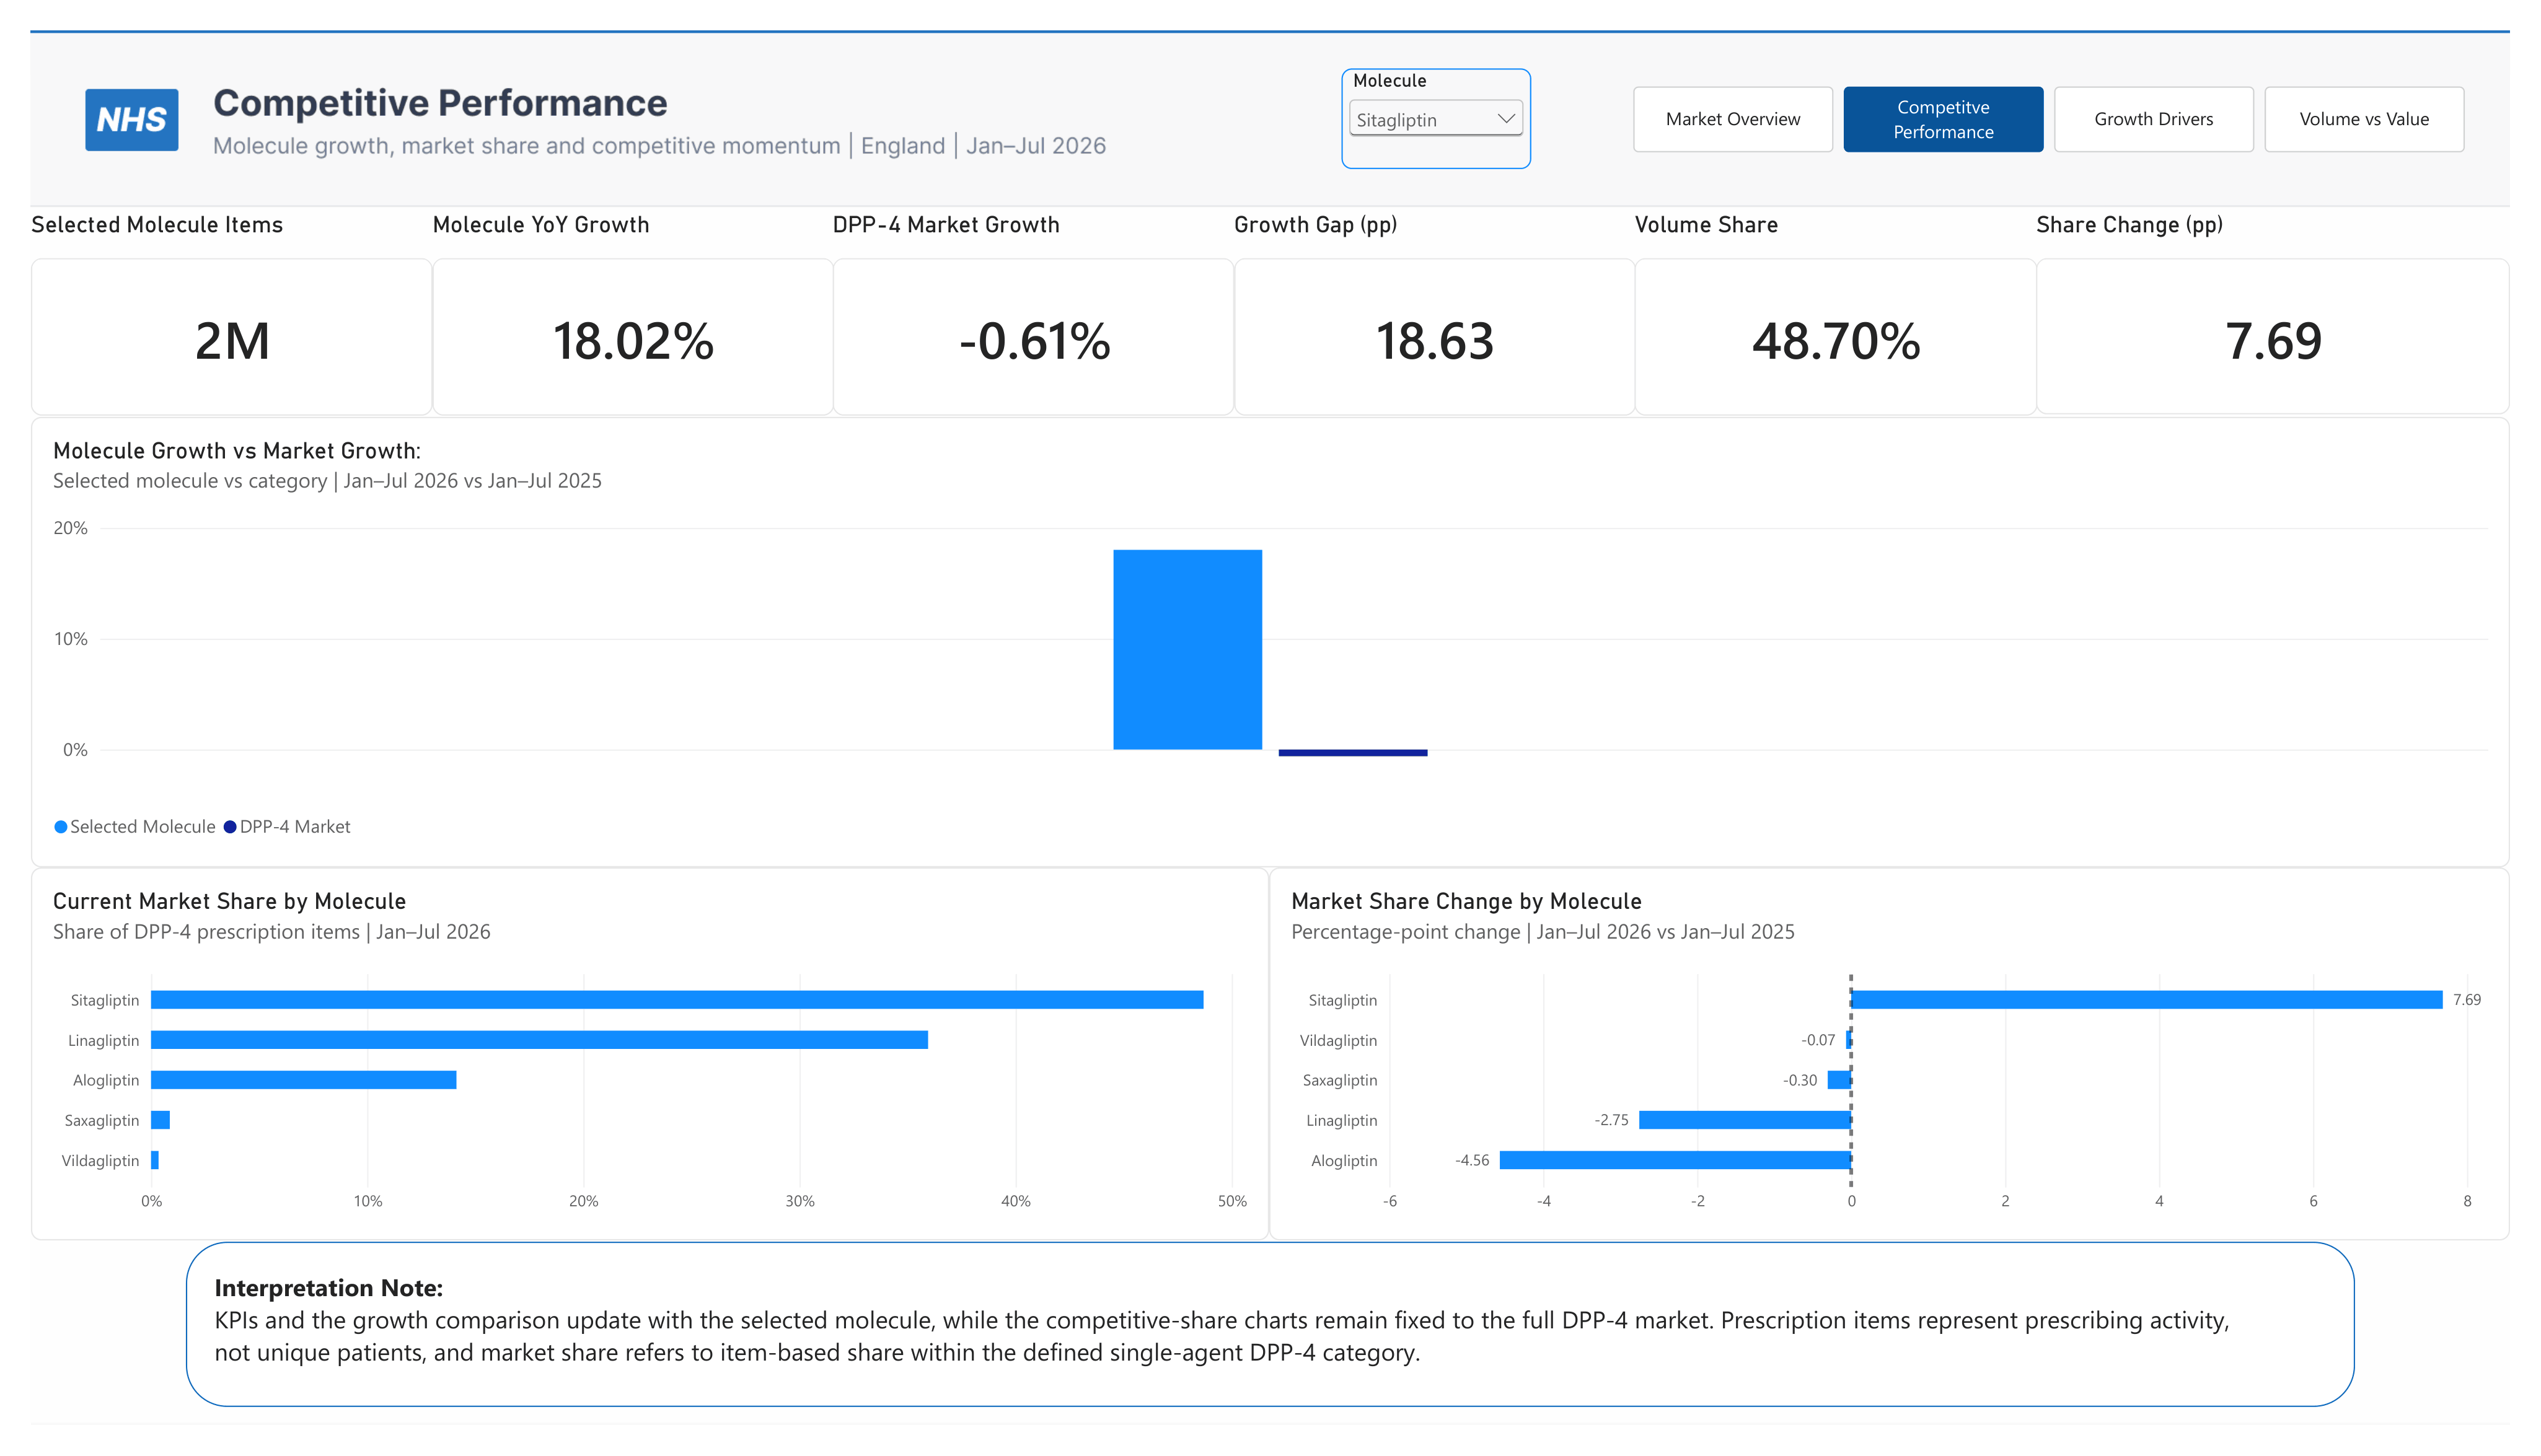

The dashboard page shown, as its layout file describes it:
{"tool":"powerbi","page":{"name":"Competitve Performance","canvas":[1920,1080],"ordinal":1},"visuals":[{"type":"slicer","title":"Slicer","fields":{"Values":["Dim_Chemical.Molecule"]},"box":[1015.2,29,146.6,77.8],"z":0},{"type":"shape","box":[120,938,1680,128],"z":0,"group":"g1"},{"type":"cardVisual","title":"Selected Molecule Items","fields":{"Data":["Measure Table.Total Items"]},"box":[0,139,311.3,159],"z":1000},{"type":"textbox","box":[142,960,1592,86],"z":1000,"group":"g1"},{"type":"cardVisual","title":"Molecule YoY Growth","fields":{"Data":["Measure Table.Items YoY Growth"]},"box":[310.6,138.7,311.3,159],"z":2000},{"type":"cardVisual","title":"DPP-4 Market Growth","fields":{"Data":["Measure Table.DPP4 Market YoY Growth"]},"box":[621.1,138.7,311.3,159],"z":3000},{"type":"cardVisual","title":"Growth Gap (pp)","fields":{"Data":["Measure Table.Growth Gap (pp)"]},"box":[931.7,138.7,311.3,159],"z":4000},{"type":"cardVisual","title":"Volume Share","fields":{"Data":["Measure Table.Volume Share"]},"box":[1242.2,138.7,311.3,159],"z":5000},{"type":"cardVisual","title":"Share Change (pp)","fields":{"Data":["Measure Table.Volume Share Change (pp)"]},"box":[1552.7,139.3,367.4,157.4],"z":6000},{"type":"clusteredColumnChart","title":"Molecule Growth vs Market Growth:","fields":{"Y":["Measure Table.Items YoY Growth","Measure Table.DPP4 Market YoY Growth"]},"box":[0,298.6,1920.1,349.3],"z":7000},{"type":"clusteredBarChart","title":"Current Market Share by Molecule","fields":{"Category":["Dim_Chemical.Molecule"],"Y":["Measure Table.Volume Share"]},"box":[0,647.9,959.1,289.5],"z":8000},{"type":"clusteredBarChart","title":"Market Share Change by Molecule","fields":{"Category":["Dim_Chemical.Molecule"],"Y":["Measure Table.Volume Share Change (pp)"]},"box":[959.1,647.9,960.9,289.5],"z":9000},{"type":"group","id":"g1","title":"Group 1","box":[120,938,1680,128],"z":10000},{"type":"pageNavigator","box":[1241.4,43.4,646,50.7],"z":10001}]}

Visuals, with their boxes on the page's 1920x1080 design canvas (x1, y1, x2, y2). These are canvas units, not pixel positions in the 2541x1456 screenshot, which may show the page scaled, cropped or inside an application window:
"Slicer" slicer: pyautogui.locateOnScreen(1015, 29, 1162, 107)
shape: pyautogui.locateOnScreen(120, 938, 1800, 1066)
"Selected Molecule Items" cardVisual: pyautogui.locateOnScreen(0, 139, 311, 298)
textbox: pyautogui.locateOnScreen(142, 960, 1734, 1046)
"Molecule YoY Growth" cardVisual: pyautogui.locateOnScreen(311, 139, 622, 298)
"DPP-4 Market Growth" cardVisual: pyautogui.locateOnScreen(621, 139, 932, 298)
"Growth Gap (pp)" cardVisual: pyautogui.locateOnScreen(932, 139, 1243, 298)
"Volume Share" cardVisual: pyautogui.locateOnScreen(1242, 139, 1554, 298)
"Share Change (pp)" cardVisual: pyautogui.locateOnScreen(1553, 139, 1920, 297)
"Molecule Growth vs Market Growth:" clusteredColumnChart: pyautogui.locateOnScreen(0, 299, 1920, 648)
"Current Market Share by Molecule" clusteredBarChart: pyautogui.locateOnScreen(0, 648, 959, 937)
"Market Share Change by Molecule" clusteredBarChart: pyautogui.locateOnScreen(959, 648, 1920, 937)
"Group 1" group: pyautogui.locateOnScreen(120, 938, 1800, 1066)
pageNavigator: pyautogui.locateOnScreen(1241, 43, 1887, 94)
